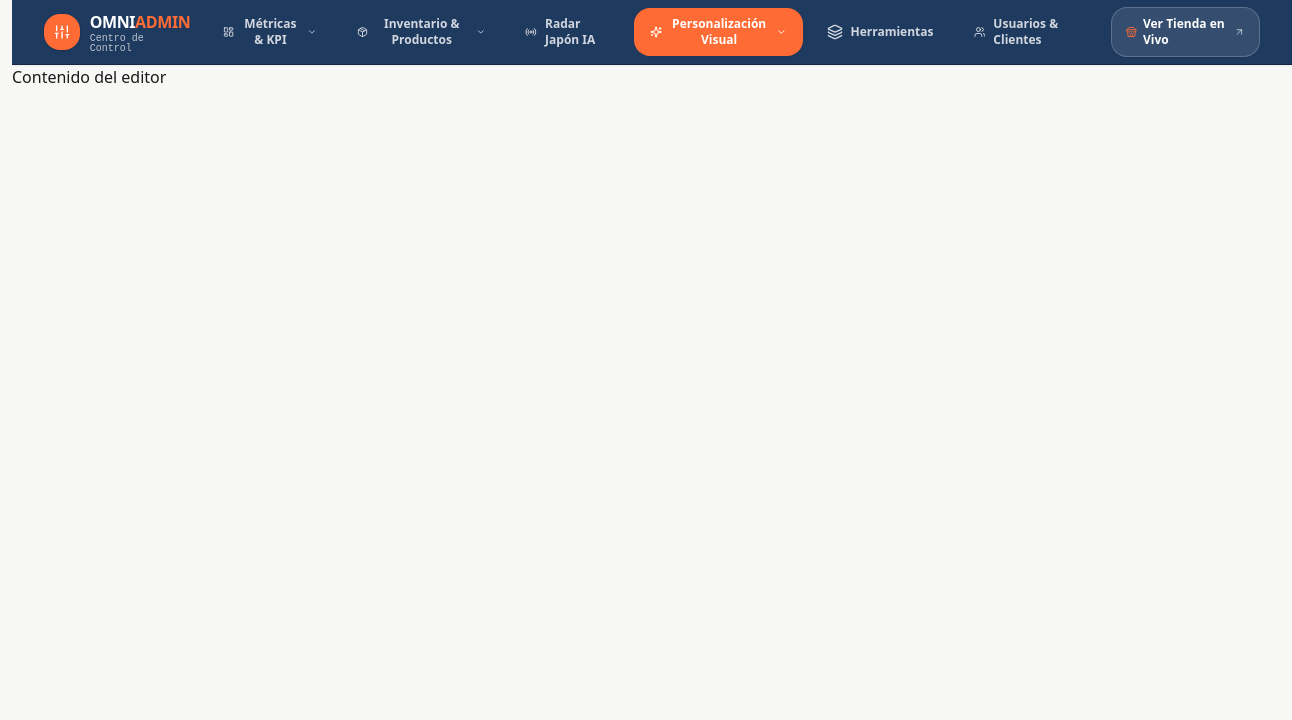
Test: Home hero editor and live preview › connects the new editor through Personalización Visual and marks the menu active
Click the button with aria-label "Personalización Visual" at coordinates (718, 32), box [634,8,802,56]
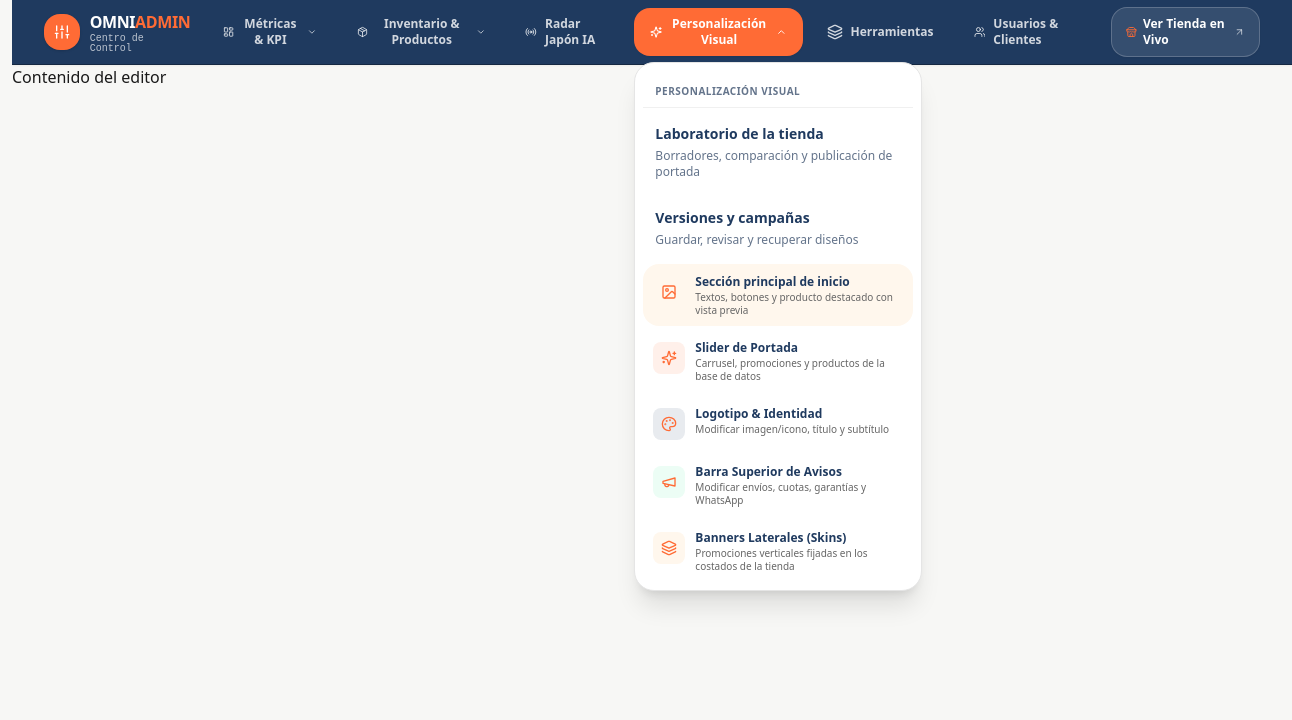
Now the link to "/admin/home-hero" shows "Sección principal de inicio", box [643,264,913,326]
